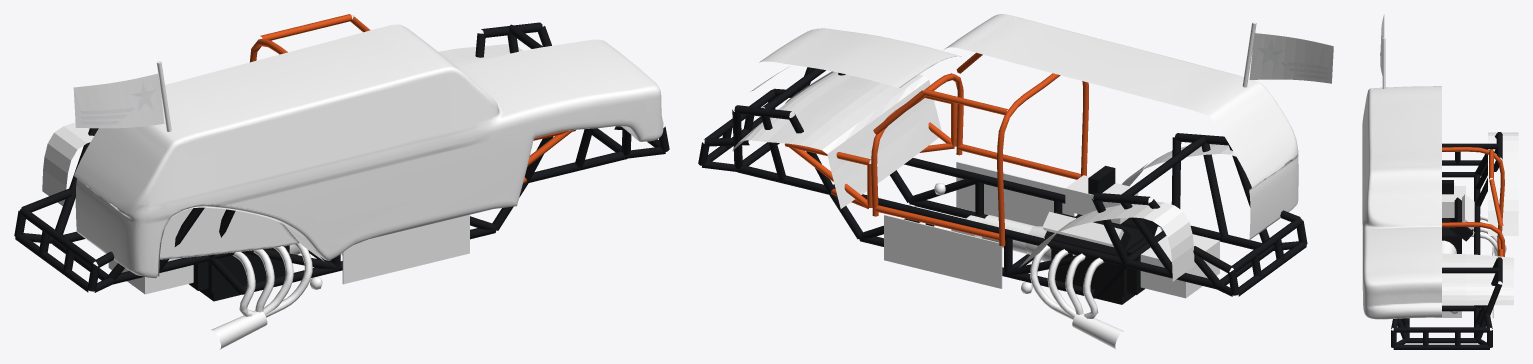
File: monster-lod.glb
3 renders of one model, left to right at view 1: azimuth 30°, elevation 25°; view 2: azimuth 150°, elevation 25°; view 3: azimuth 270°, elevation 25°, orthographic. The views are drawn at different scales.
Visible parts, largest first — view 1: body, part_0, part_1; view 2: part_0, body, part_1; view 3: body, part_0, part_1.
Part boxes in pixels (x1=…): body: x1=74, y1=24, x2=663, y2=278; part_0: x1=14, y1=14, x2=669, y2=349; part_1: x1=73, y1=61, x2=171, y2=131; part_0: x1=698, y1=52, x2=1307, y2=349; body: x1=750, y1=14, x2=1298, y2=240; part_1: x1=1242, y1=21, x2=1333, y2=87; body: x1=1362, y1=86, x2=1441, y2=319; part_0: x1=1391, y1=132, x2=1518, y2=349; part_1: x1=1380, y1=14, x2=1385, y2=88.
Size of the model in its own units: 5.71 by 2.73 by 1.95.
